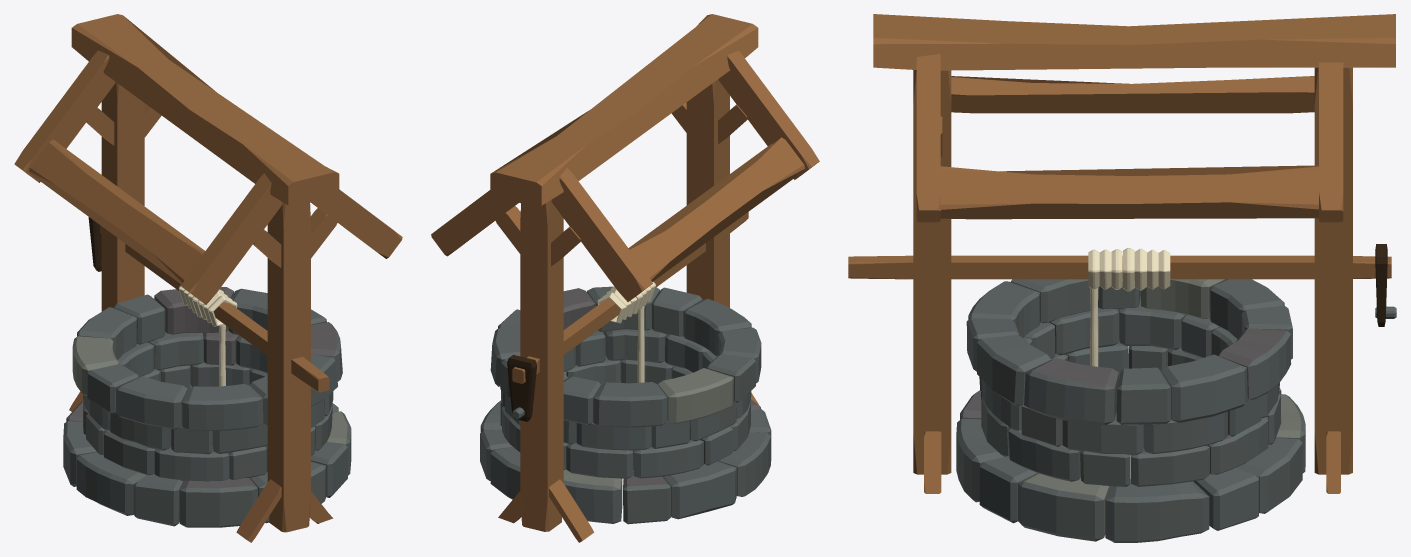
The model's file is well lowpoly.fbx.
The picture shows the model from 3 angles, left to right: view 1: azimuth 30°, elevation 25°; view 2: azimuth 150°, elevation 25°; view 3: azimuth 270°, elevation 25°; orthographic projection. The views are drawn at different scales.
Visible parts, largest first — view 1: Cube.003, Cube.001; view 2: Cube.003, Cube.001; view 3: Cube.003, Cube.001.
Boxes of the visible parts, <box> form: Cube.003: <box>14,14,402,542</box>; Cube.001: <box>63,287,351,527</box>; Cube.003: <box>431,14,819,542</box>; Cube.001: <box>480,286,771,524</box>; Cube.003: <box>848,14,1396,493</box>; Cube.001: <box>956,279,1305,542</box>.
Size of the model in its own units: 1363 by 1927 by 2139.
